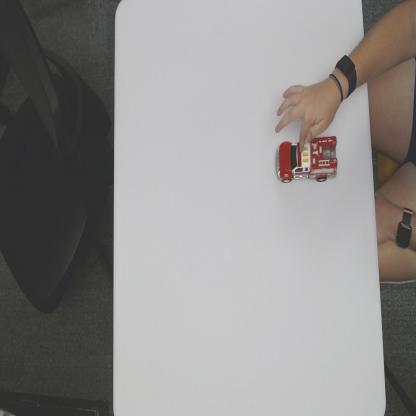Firetruck: (275, 136, 338, 185)
Hand: (274, 83, 342, 135)
